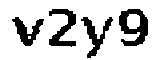2: (46, 7, 77, 48)
9: (116, 9, 150, 51)
v: (8, 17, 43, 50)
y: (80, 14, 113, 60)
